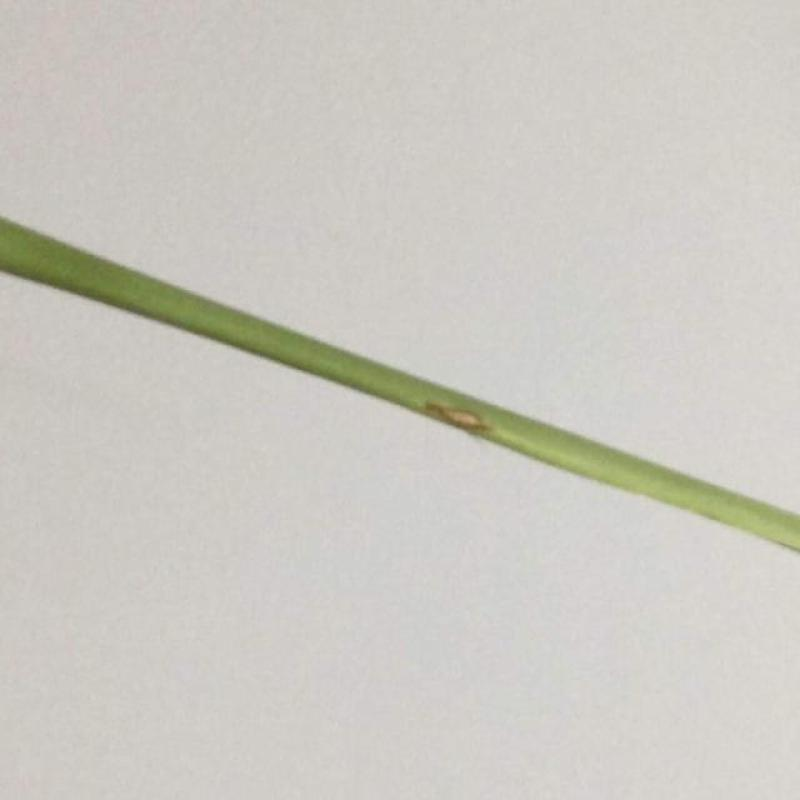Leaf_Blast: (384, 369, 530, 471)
